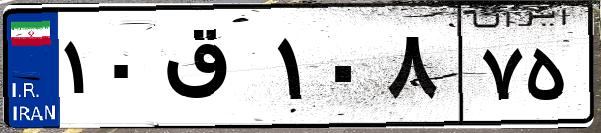0: (330, 28, 385, 110), (110, 28, 158, 98)
1: (270, 28, 330, 110), (57, 26, 110, 100)
5: (525, 38, 570, 115)
7: (475, 38, 525, 113)
8: (385, 28, 445, 110)
ق: (158, 20, 270, 120)
